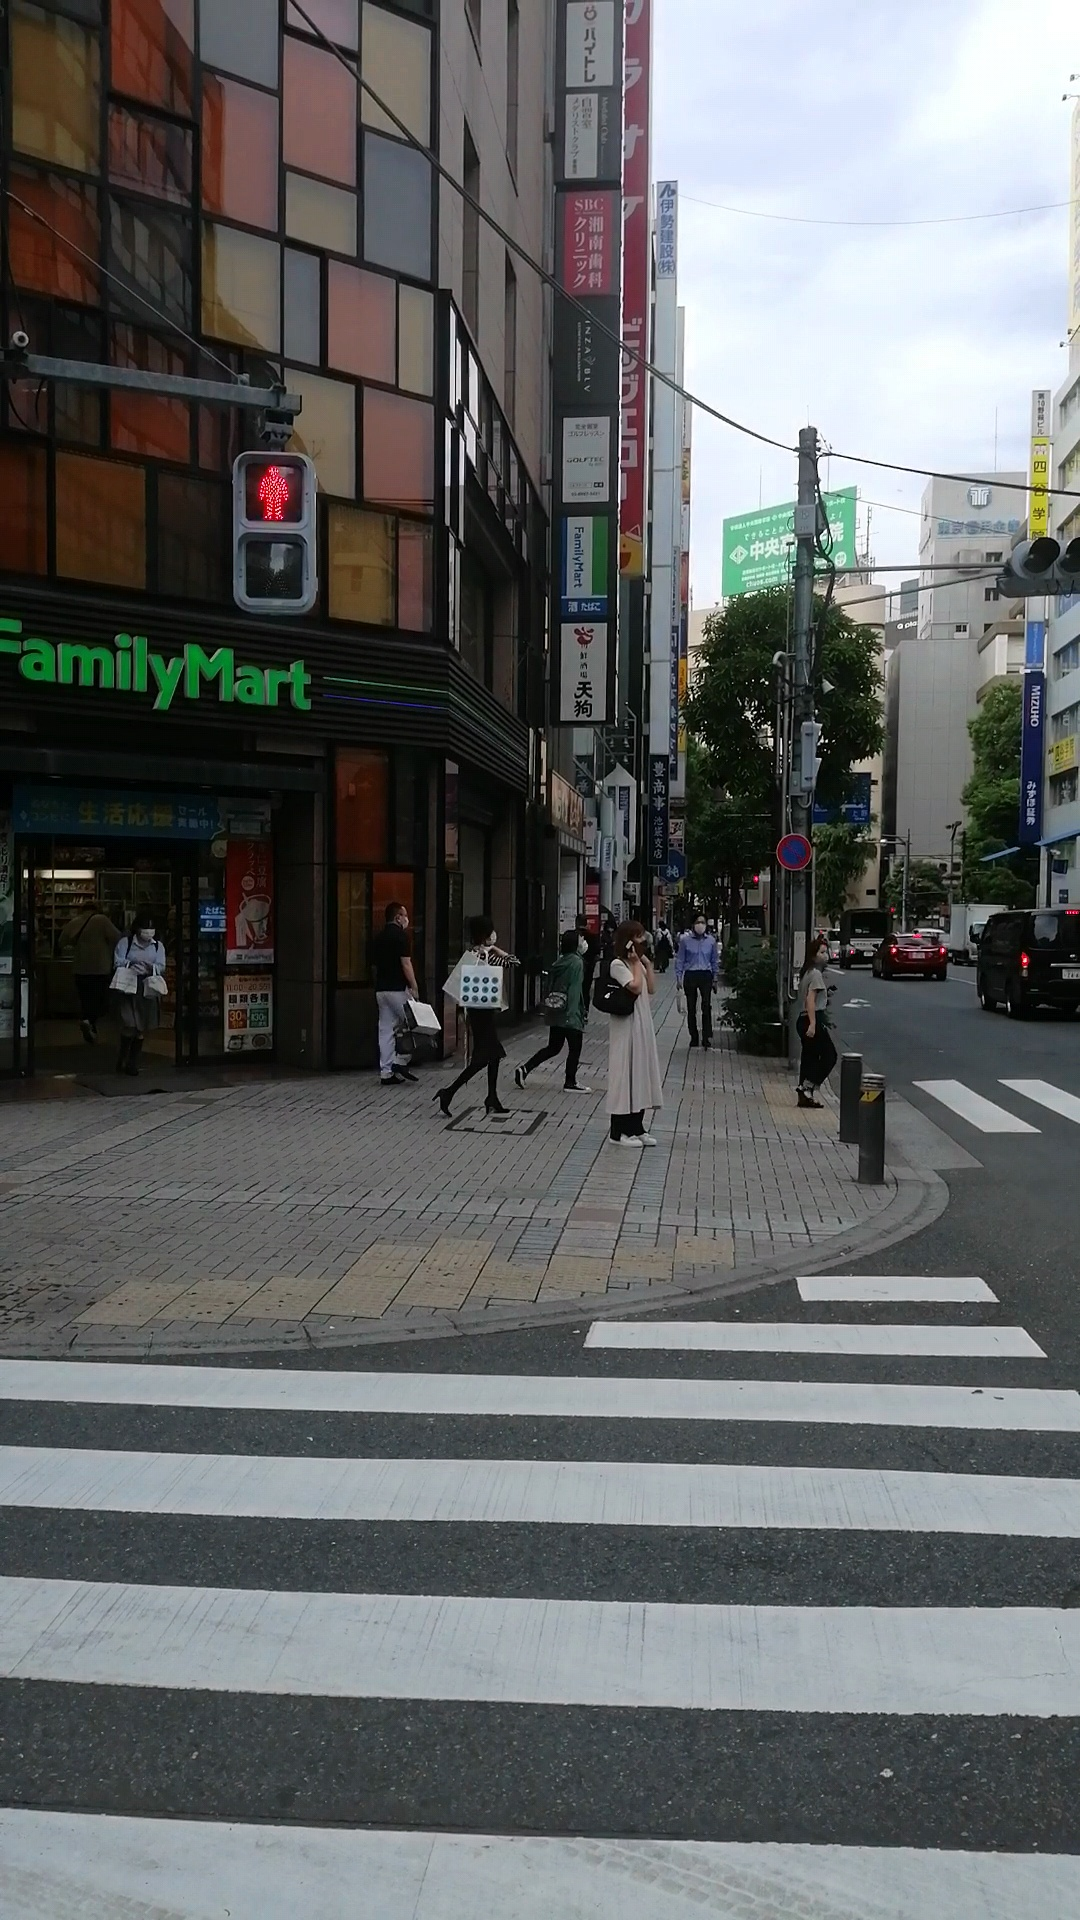red: (231, 448, 316, 615)
